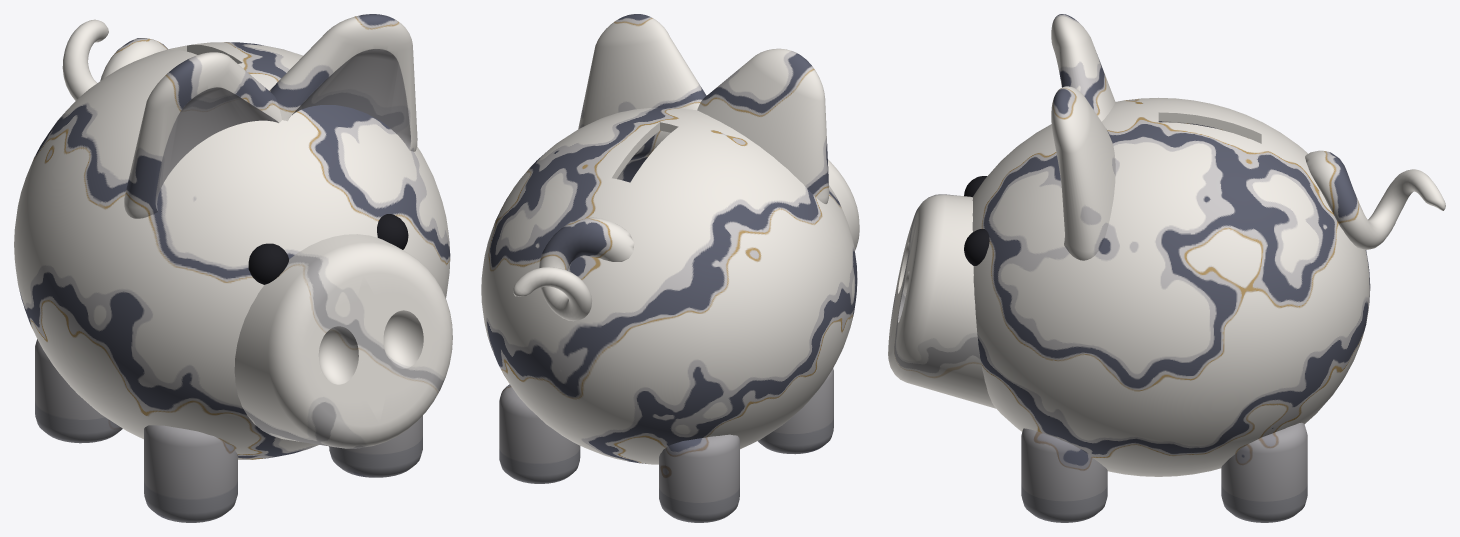
The model's file is marble-og-v1-complete.fbx.
3 views of the same model, side by side, from view 1: azimuth 30°, elevation 25°; view 2: azimuth 150°, elevation 25°; view 3: azimuth 270°, elevation 25° (orthographic). The views are drawn at different scales.
Visible parts, largest first — view 1: Body, Snout, Ears, Legs, Tail, EyePreview; view 2: Body, Ears, Legs, Tail, Snout; view 3: Body, Snout, Legs, Ears, Tail, EyePreview.
Boxes of the visible parts, box(x1,y1,x2,y2) form: Body: box(14, 42, 450, 459); Snout: box(234, 234, 452, 448); Ears: box(124, 14, 417, 218); Legs: box(35, 339, 422, 522); Tail: box(62, 19, 167, 100); EyePreview: box(248, 214, 408, 284); Body: box(481, 107, 857, 464); Ears: box(578, 14, 829, 203); Legs: box(499, 368, 833, 522); Tail: box(513, 217, 634, 321); Snout: box(828, 159, 859, 250); Body: box(972, 97, 1370, 476); Snout: box(888, 194, 996, 408); Legs: box(1021, 422, 1307, 522); Ears: box(1051, 14, 1115, 260); Tail: box(1305, 150, 1445, 249); EyePreview: box(964, 176, 989, 265).
Bounding box in the file's own units: 1200 × 1397 × 1708.
3 materials, 2 textured.
